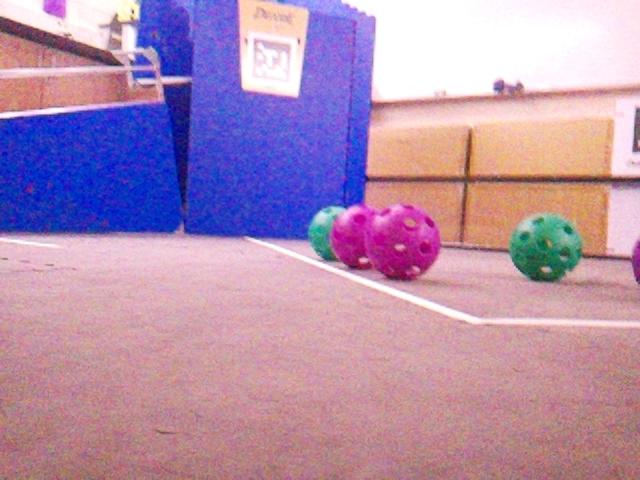Green: (508, 212, 582, 281), (306, 206, 346, 260)
Purple: (364, 202, 443, 278), (332, 201, 378, 272), (629, 239, 640, 284)
